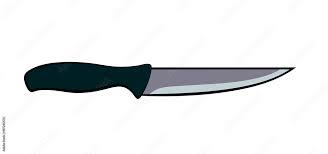Knife: (23, 61, 296, 98)
